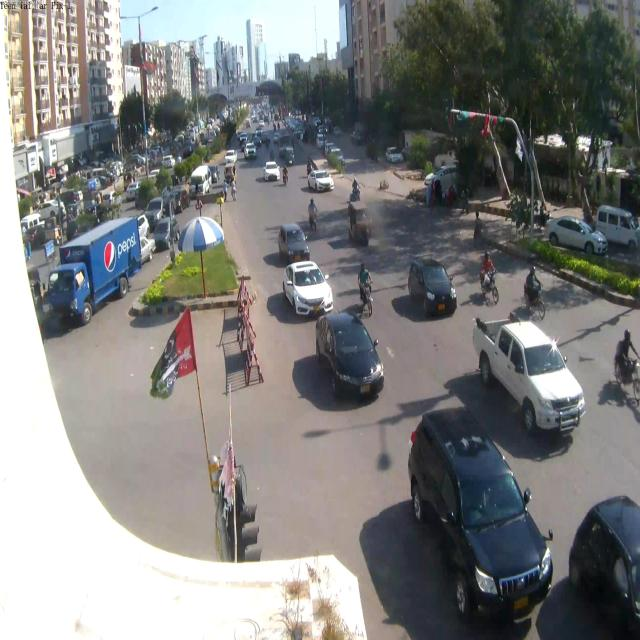car: (398, 407, 559, 630), (474, 315, 603, 448), (318, 315, 392, 410), (398, 252, 462, 326), (538, 210, 612, 263), (284, 265, 339, 323), (275, 222, 315, 265), (301, 170, 337, 191), (383, 142, 404, 166), (262, 161, 280, 182), (244, 141, 256, 161), (224, 150, 236, 164)
motorbike: (478, 265, 500, 303), (524, 280, 545, 318), (357, 276, 376, 316), (307, 210, 320, 232), (352, 186, 363, 203), (282, 171, 289, 186), (307, 162, 313, 176), (269, 151, 274, 162)
truck: (47, 218, 142, 323)
